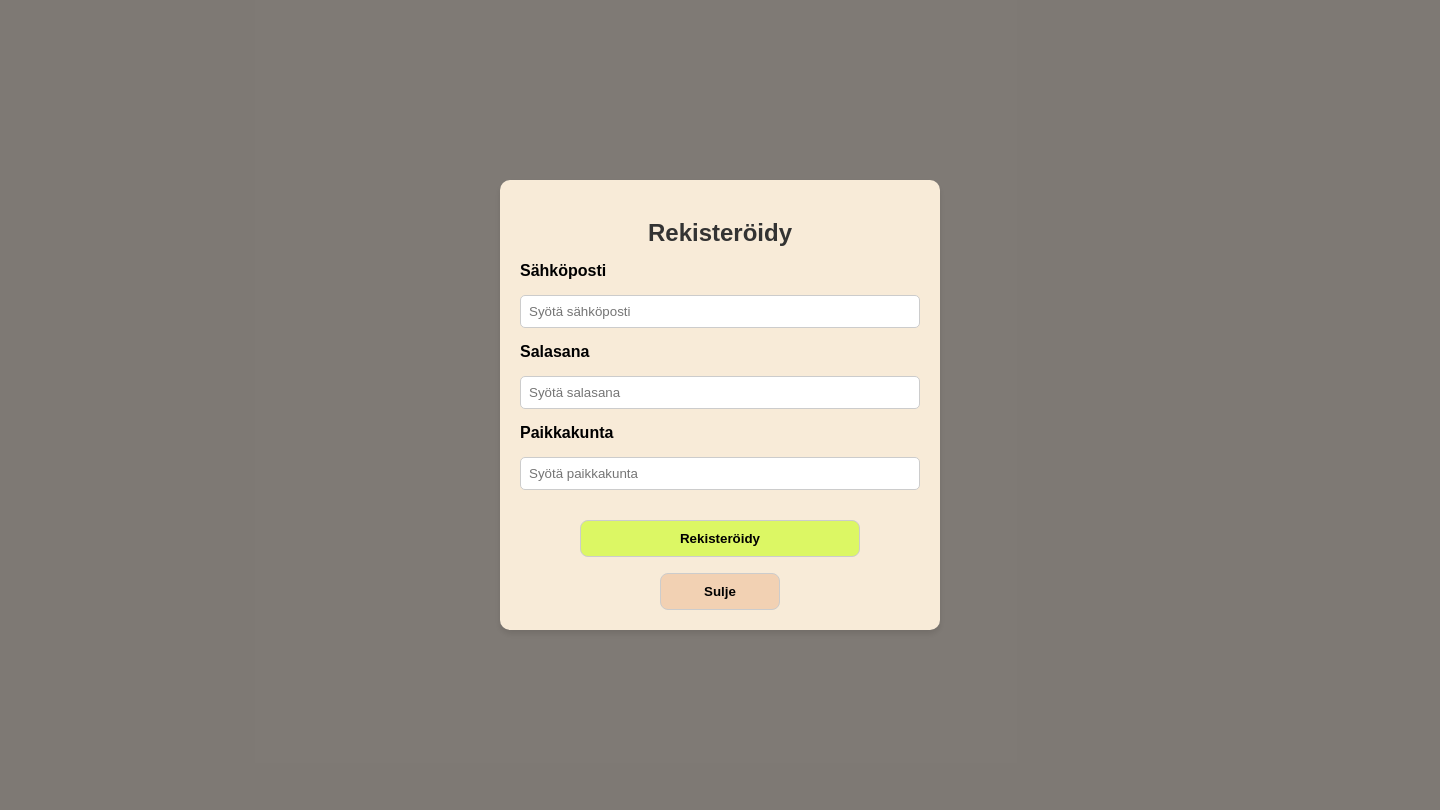
Test: näyttää virheilmoituksen, jos paikkakunta ei ole validi
This screenshot has width=1440, height=810.
// Syötä tiedot
Type "test@example.com" into the field with placeholder "Syötä sähköposti".
click(720, 312); type("test@example.com")  # box top-left (520, 296), bottom-right (920, 328)
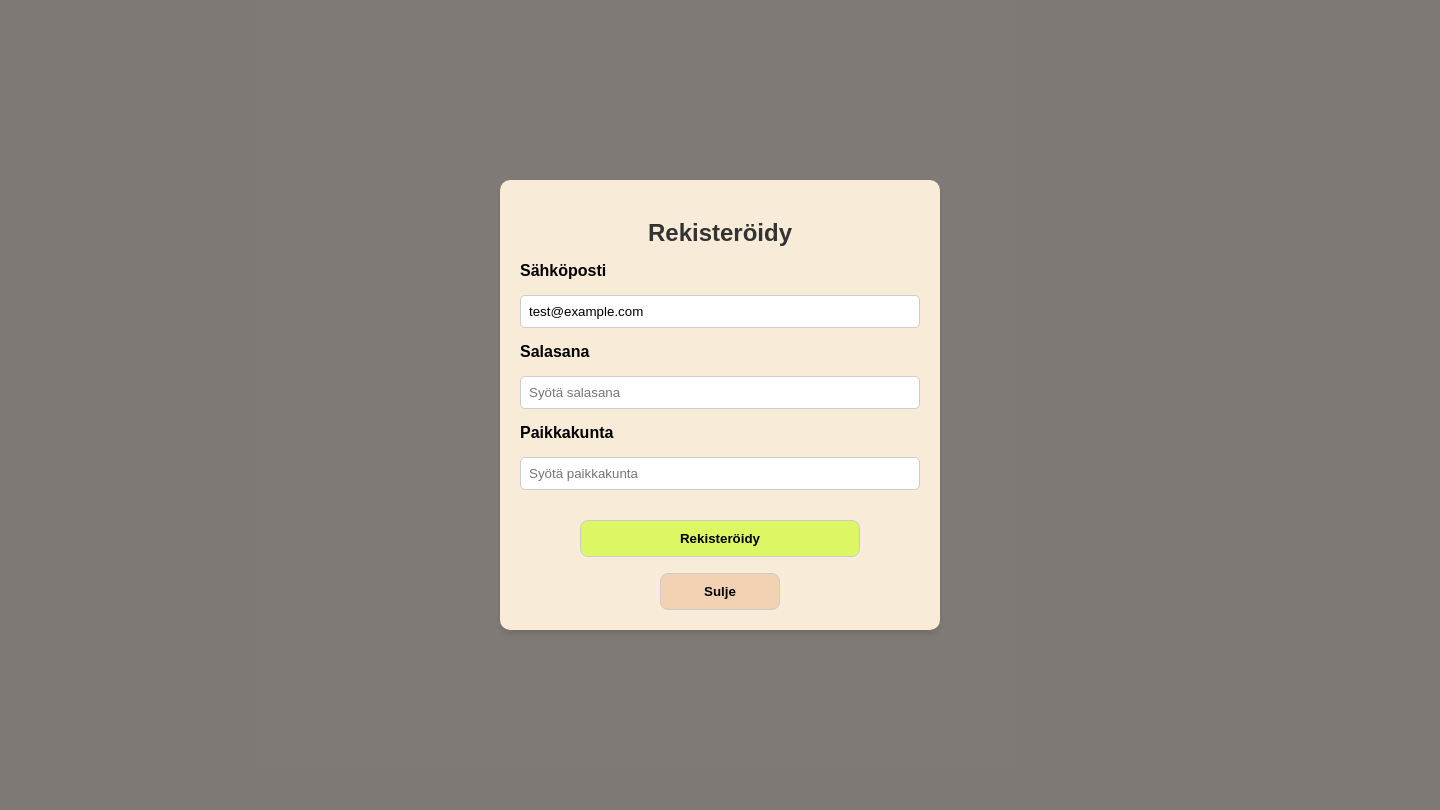
Type "password123" into the password field with placeholder "Syötä salasana".
click(720, 393); type("password123")  # box top-left (520, 376), bottom-right (920, 410)
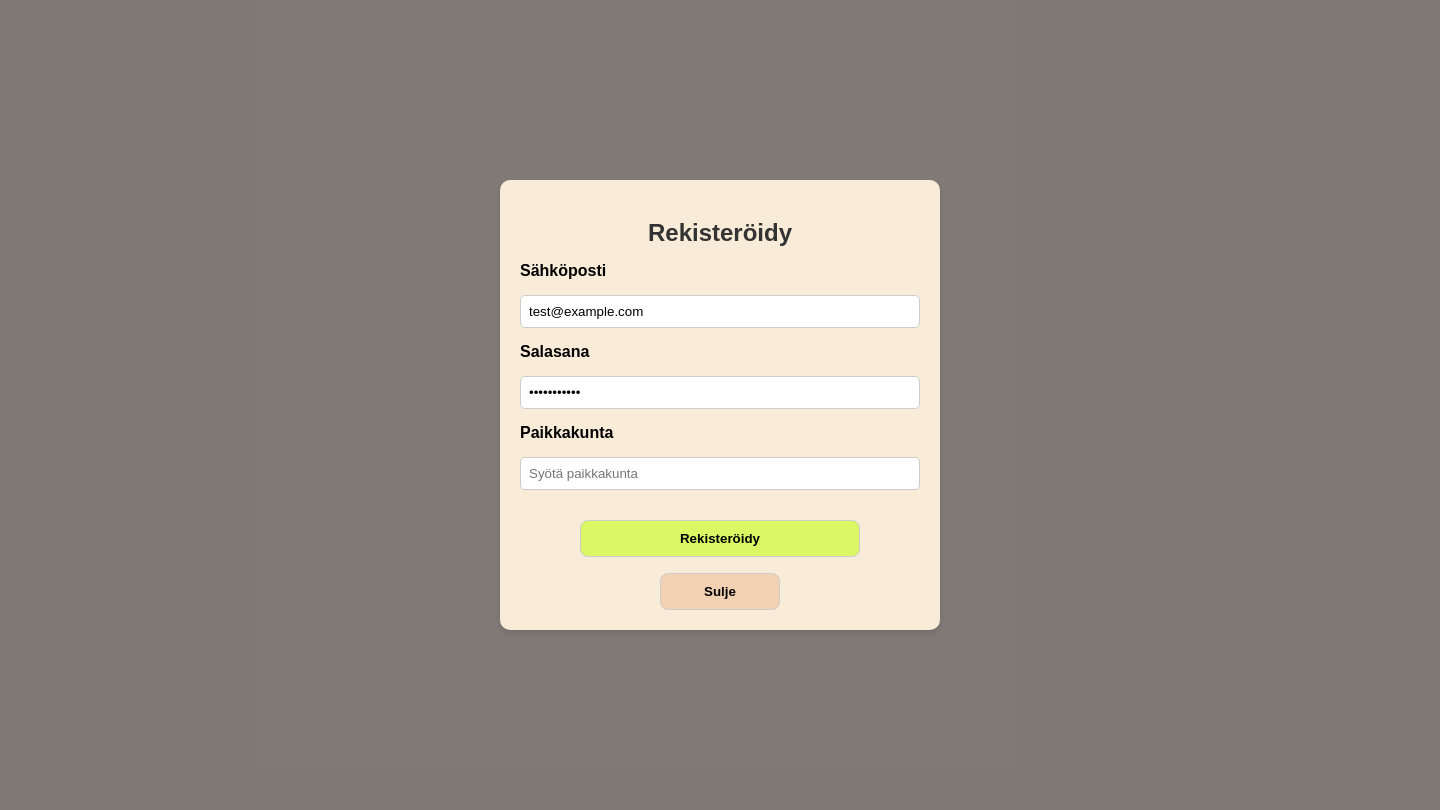
Type "VirheellinenPaikkakunta" into the field with placeholder "Syötä paikkakunta".
click(720, 474); type("VirheellinenPaikkakunta")  # box top-left (520, 458), bottom-right (920, 490)
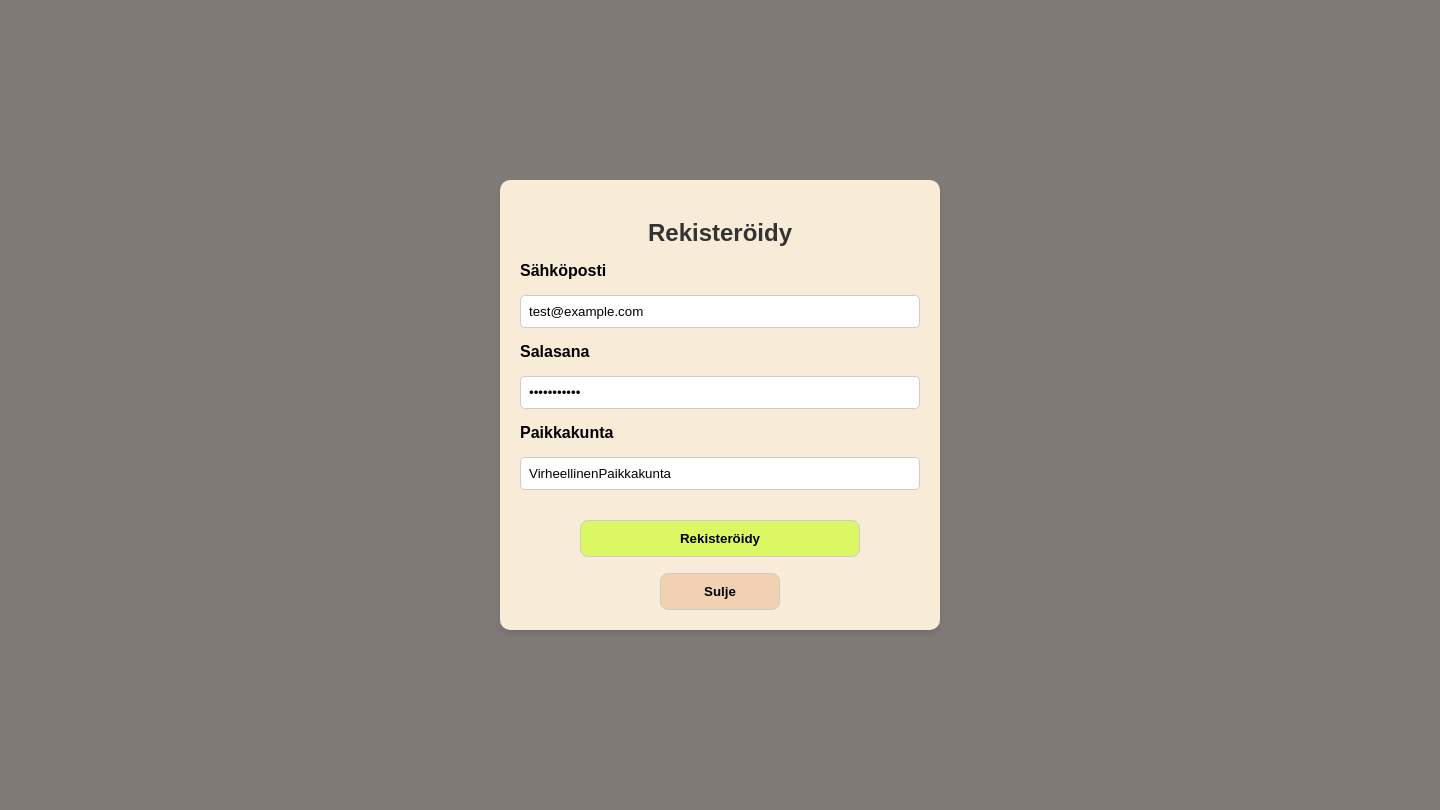
// Klikkaa "Rekisteröidy"-painiketta
Click the button "Rekisteröidy".
click(720, 539)  # box top-left (580, 520), bottom-right (860, 558)
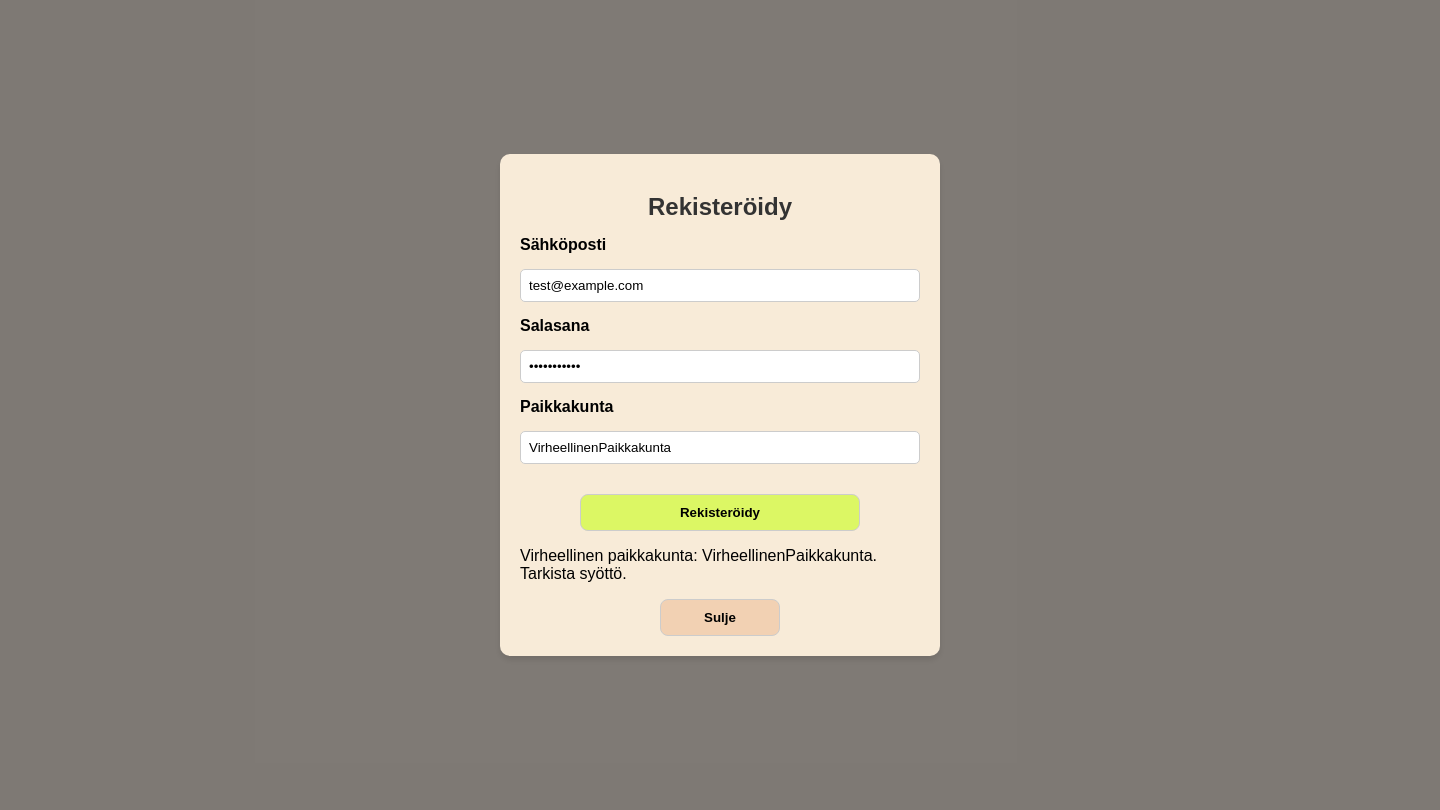
Expected: the text "Virheellinen paikkakunta:" is shown, top-left (520, 548), bottom-right (877, 582)
